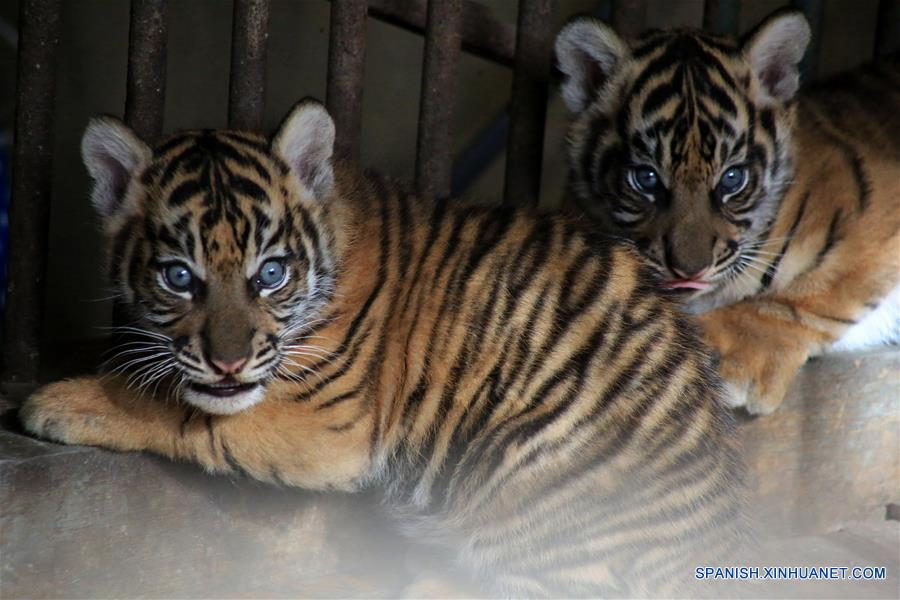Tigrew: (59, 93, 684, 546), (534, 15, 865, 395)
